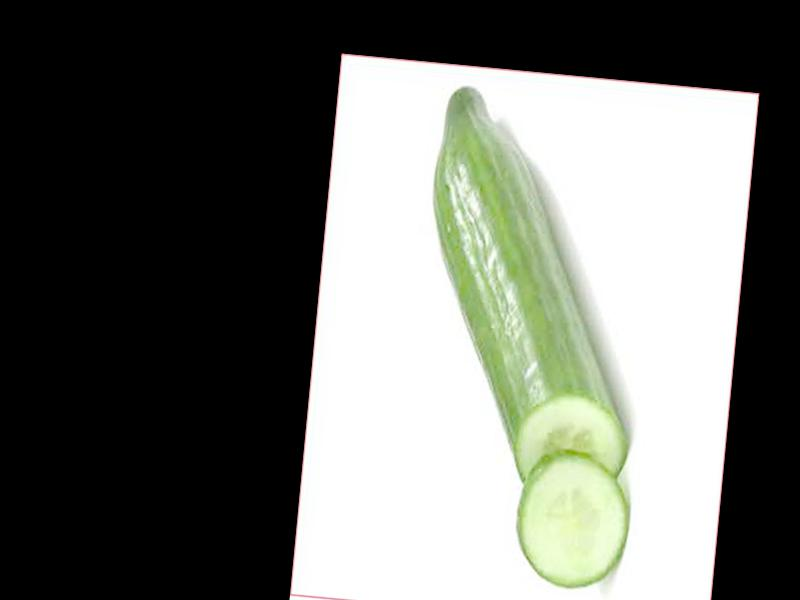Cucumber: (406, 83, 660, 498)
